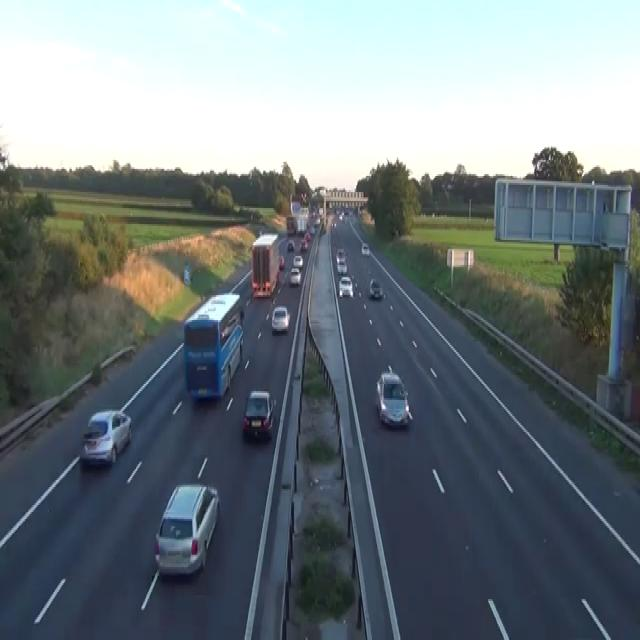Car: (154, 482, 220, 578), (80, 409, 131, 466), (375, 368, 412, 428), (242, 389, 275, 441), (271, 306, 290, 332), (368, 277, 383, 299), (338, 275, 353, 297), (289, 265, 301, 286), (336, 258, 347, 274), (336, 247, 346, 261), (293, 254, 303, 267), (361, 242, 369, 256), (300, 238, 307, 251), (303, 231, 311, 242), (278, 254, 284, 268), (391, 226, 399, 236), (287, 240, 294, 251), (319, 222, 326, 233), (339, 210, 345, 220), (275, 268, 279, 282), (314, 217, 320, 226), (309, 226, 315, 234), (344, 208, 349, 215), (332, 220, 336, 228)
Truck: (183, 292, 244, 400), (251, 233, 279, 297), (286, 215, 297, 235)
